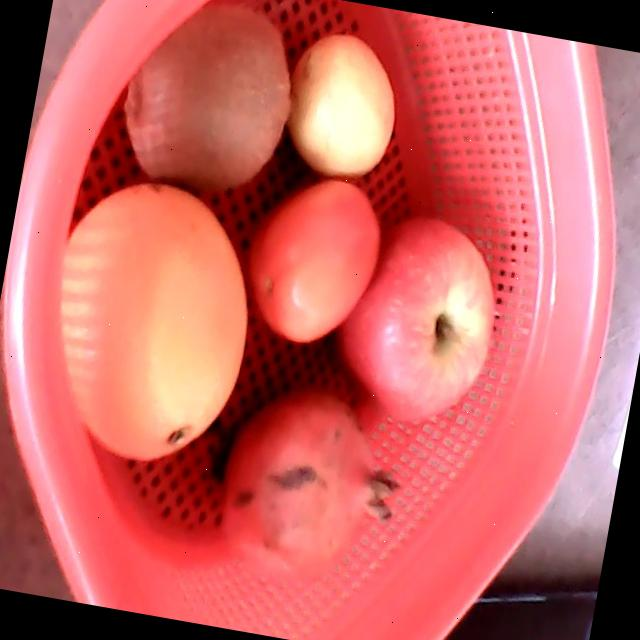apple: (339, 213, 494, 419)
kiwi: (122, 1, 289, 188)
lemon: (288, 31, 393, 177)
orange: (62, 182, 247, 460)
pomegranate: (221, 384, 398, 582)
tomato: (248, 178, 379, 342)
